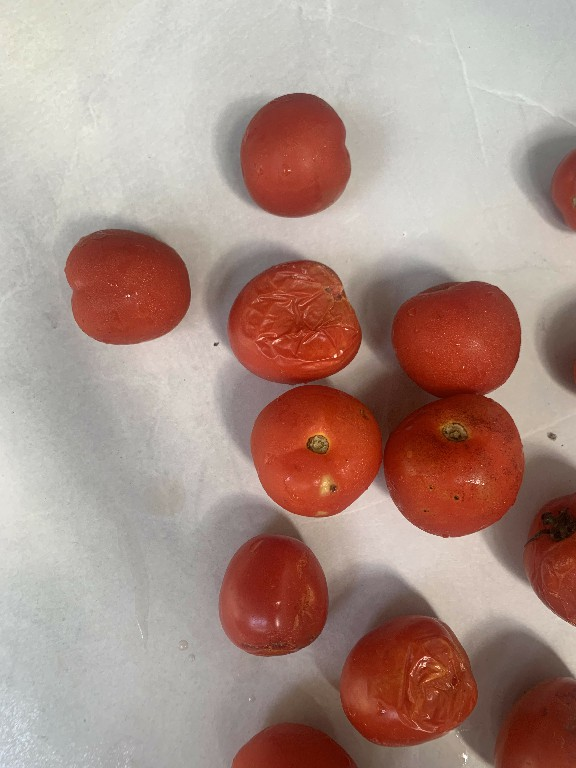NG: (337, 607, 495, 757), (254, 375, 386, 532), (387, 395, 528, 540), (224, 251, 360, 384), (216, 523, 335, 661)
OK: (52, 219, 199, 355), (391, 268, 533, 395), (231, 90, 358, 223)
